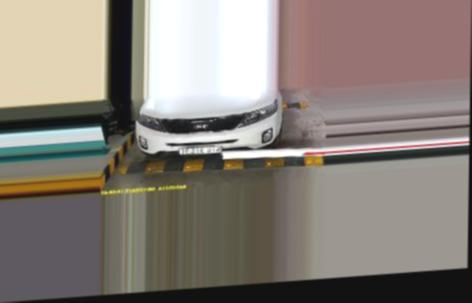License_Plate: (179, 141, 226, 160)
